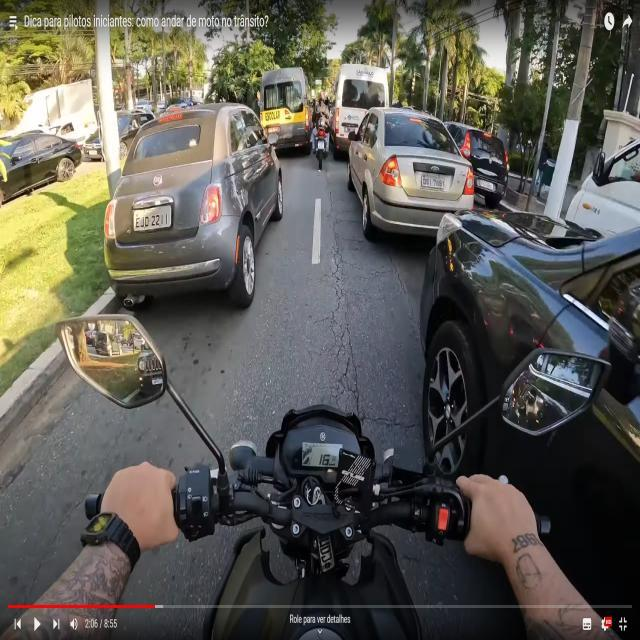Placa_mercosul_carro: (133, 206, 171, 231), (421, 176, 445, 189), (478, 180, 494, 191)
